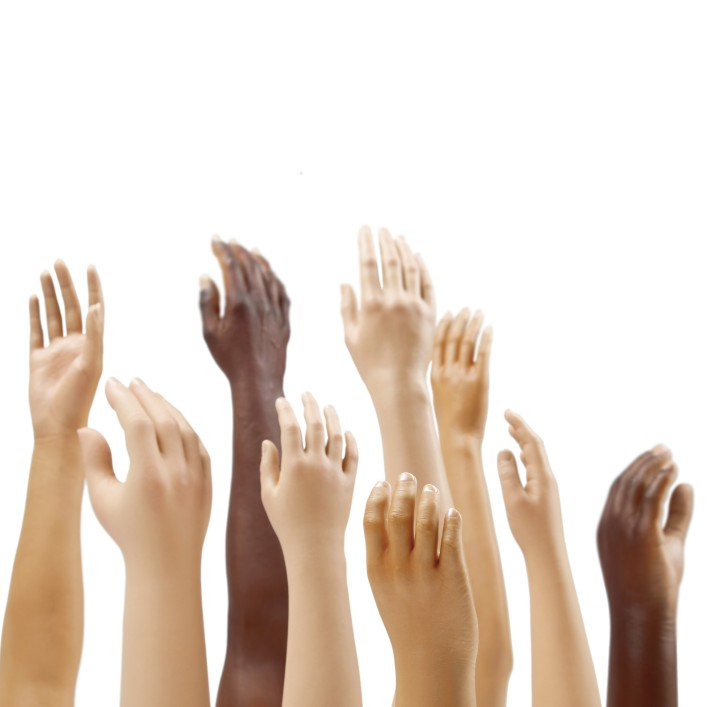finger: (103, 378, 163, 461), (637, 460, 677, 538), (210, 236, 251, 298), (50, 257, 83, 334), (354, 222, 387, 298), (389, 473, 417, 553), (35, 266, 65, 339), (268, 396, 305, 450), (367, 475, 391, 556), (395, 241, 430, 296), (83, 261, 107, 339), (234, 241, 269, 291), (459, 306, 487, 364), (379, 227, 405, 289), (299, 390, 325, 452), (422, 479, 440, 568), (441, 512, 464, 573), (322, 404, 345, 463), (254, 255, 281, 303), (23, 293, 45, 348), (342, 433, 360, 482), (480, 323, 494, 369)
